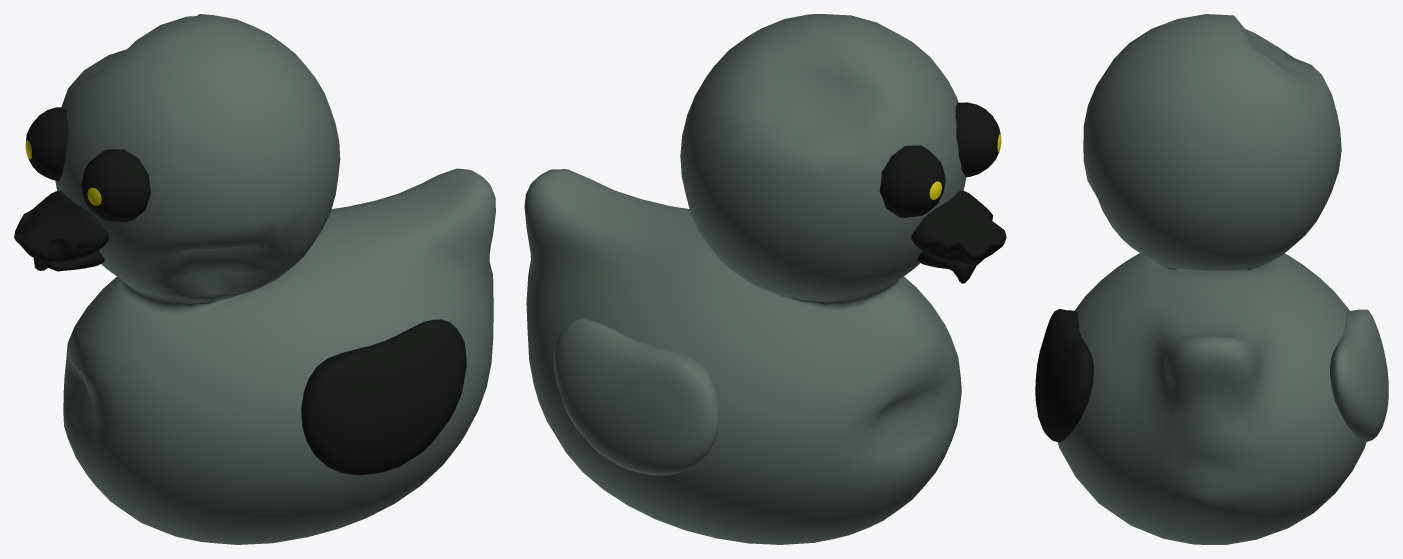
The model's file is light-zombie-duck.fbx.
3 renders of one model, left to right at view 1: azimuth 30°, elevation 25°; view 2: azimuth 150°, elevation 25°; view 3: azimuth 270°, elevation 25°, orthographic. The views are drawn at different scales.
Parts seen in each view (by area): view 1: Retopo_Beak; view 2: Retopo_Beak; view 3: Retopo_Beak.
Part boxes in pixels (x1,y1,x2,y2): Retopo_Beak: (14, 14, 495, 544); Retopo_Beak: (524, 14, 1006, 544); Retopo_Beak: (1035, 14, 1388, 544).
Bounding box in the file's own units: 111 × 117 × 80.97.
